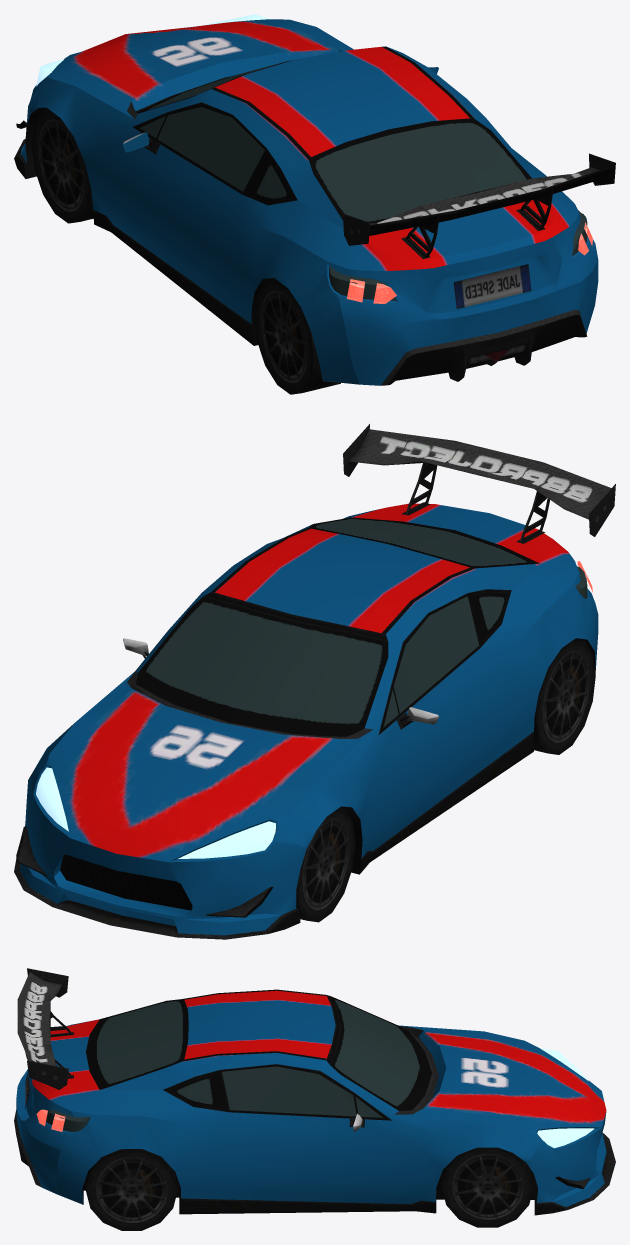
File: car_75.glb
3 views of the same model, one above another, from view 1: azimuth 30°, elevation 25°; view 2: azimuth 150°, elevation 25°; view 3: azimuth 270°, elevation 25° (orthographic). The views are drawn at different scales.
Visible parts, largest first — view 1: car_75; view 2: car_75; view 3: car_75.
Part boxes in pixels (<box>): car_75: <box>14,14,615,394</box>; car_75: <box>14,424,615,939</box>; car_75: <box>14,968,615,1230</box>.
Size of the model in its own units: 21.2 by 13.64 by 45.45.
Materials: 10 (10 with a texture image).
